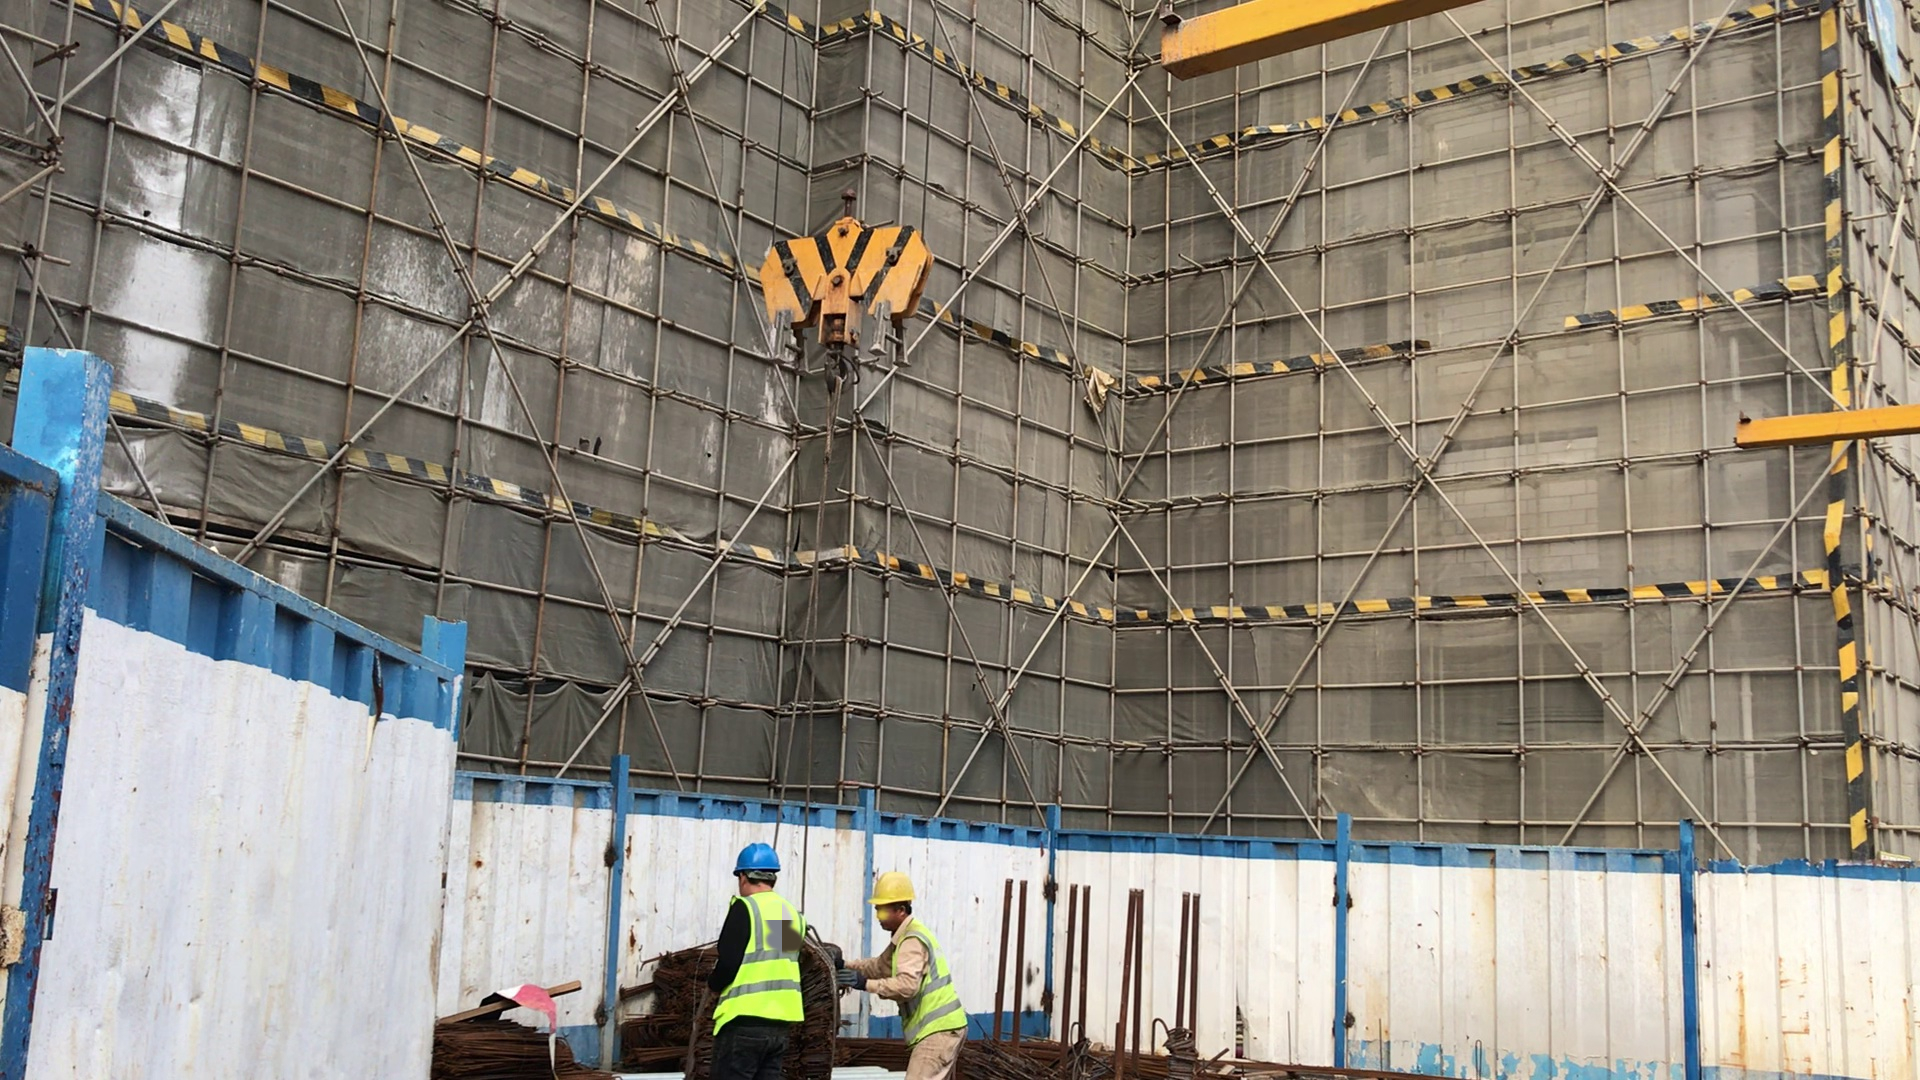helmet: (861, 873, 921, 908), (732, 840, 781, 874)
hook: (755, 187, 960, 376)
person: (696, 824, 826, 1078), (845, 879, 981, 1080)
vest: (712, 891, 805, 1031), (879, 927, 970, 1039)
